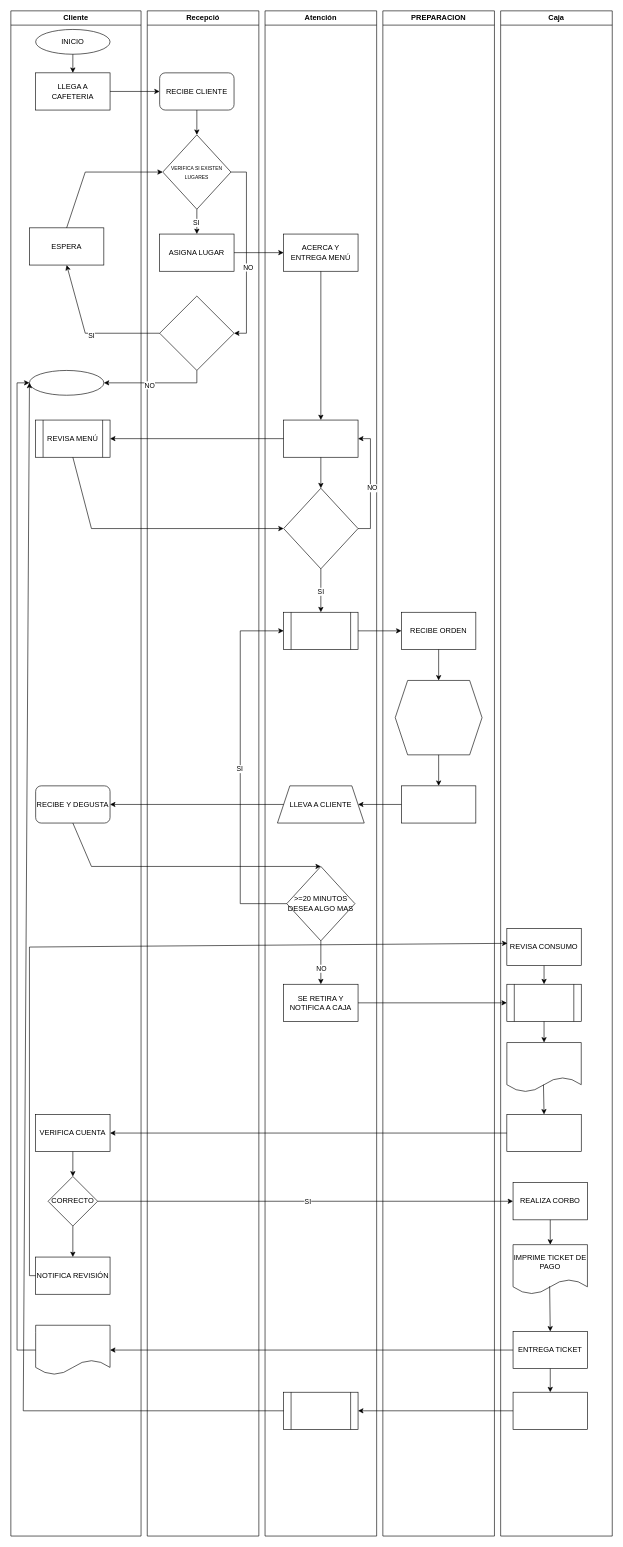
Image size: 623x1547. Some labels were removed from this diagram. Here are the shapes that lost their labels. From the top down, the centre of each, then its label:
[196,332]: ESPERA A ESPACIO LIBRE
[66,382]: FIN
[320,438]: INDICA VOLVER EN 5 MINUTOS
[320,528]: >=5 MINUTOSORDEN LINSTA
[320,630]: LEVANTA ORDEN
[438,717]: REÚNE INSUMOS Y PROCEDE A PREPARACION
[438,804]: NOTIFICA ORDEN LISTA
[543,1002]: CALCULA CONSUMO
[543,1067]: IMPRIME ESTADO DE CUENTA POR PAGAR
[543,1133]: ENTREGA A CLIENTE
[72,1350]: RECIBE TICKET
[320,1410]: LIMPIA LUGAR
[549,1410]: NOTIFICA CORBO
